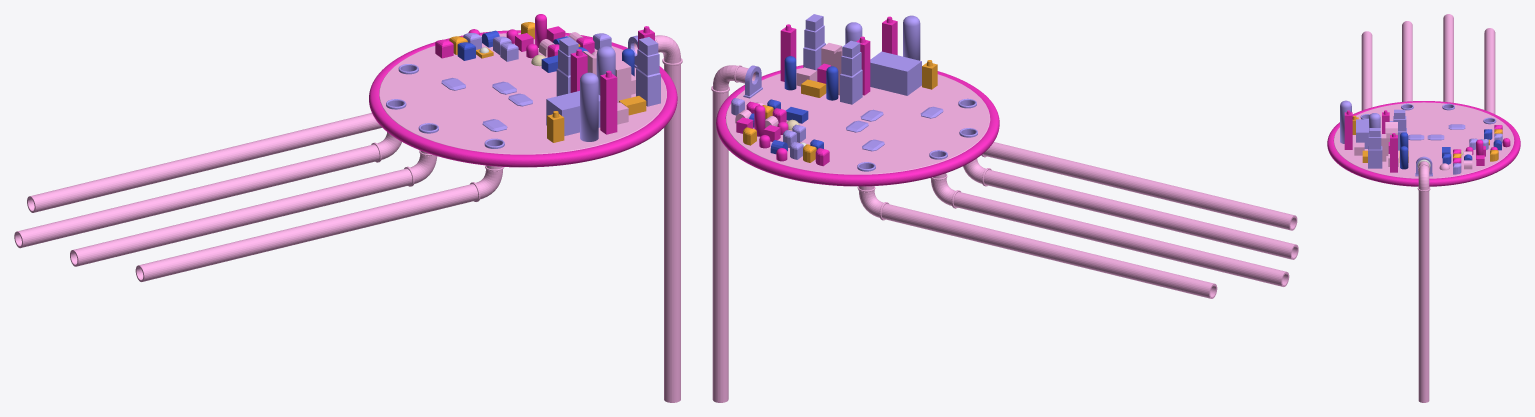
Rendered from platform_level2_a01.glb.
3 views of the same model, side by side, from view 1: azimuth 30°, elevation 25°; view 2: azimuth 150°, elevation 25°; view 3: azimuth 270°, elevation 25° (orthographic). The views are drawn at different scales.
Visible parts, largest first — view 1: Cylinder.061, Cube.270, Cube.271, Cube.213, Cube.212, Cube.210, Cylinder.062, Cube.257, Cylinder.077, Cube.222, Cube.254, Cube.215 (+3 smaller); view 2: Cylinder.061, Cube.212, Cube.270, Cube.213, Cube.210, Cube.271, Cylinder.062, Cube.222, Cube.215, Cube.257, Cylinder.077, Cube.255 (+2 smaller); view 3: Cylinder.061, Cube.210, Cylinder.062, Cube.212, Cube.270, Cube.271, Cube.213, Cube.257, Cube.254, Cube.222, Cube.255, Cube.215 (+3 smaller).
Part boxes in pixels (x1,y1,x2,y2): Cylinder.061: [379, 33, 666, 154]; Cube.270: [14, 132, 401, 248]; Cube.271: [135, 165, 504, 281]; Cube.213: [70, 150, 437, 266]; Cube.212: [27, 113, 382, 212]; Cube.210: [634, 35, 682, 402]; Cylinder.062: [369, 30, 677, 167]; Cube.257: [636, 37, 660, 106]; Cylinder.077: [580, 72, 598, 141]; Cube.222: [546, 91, 600, 135]; Cube.254: [600, 70, 617, 134]; Cube.215: [556, 37, 578, 96]; Cylinder.061: [725, 68, 990, 174]; Cube.212: [857, 186, 1217, 298]; Cube.270: [930, 173, 1289, 286]; Cube.213: [963, 158, 1298, 259]; Cube.210: [711, 65, 755, 402]; Cube.271: [981, 142, 1297, 230]; Cylinder.062: [716, 65, 999, 186]; Cube.222: [870, 51, 921, 95]; Cube.215: [840, 40, 862, 104]; Cube.257: [803, 14, 825, 70]; Cylinder.077: [903, 15, 920, 60]; Cube.255: [780, 24, 796, 81]; Cylinder.061: [1333, 102, 1514, 178]; Cube.210: [1417, 161, 1430, 402]; Cylinder.062: [1327, 101, 1520, 186]; Cube.212: [1484, 28, 1495, 113]; Cube.270: [1443, 14, 1453, 102]; Cube.271: [1361, 31, 1372, 110]; Cube.213: [1402, 21, 1412, 101]; Cube.257: [1368, 128, 1382, 168]; Cube.254: [1344, 110, 1352, 149]; Cube.222: [1356, 119, 1368, 148]; Cube.255: [1390, 133, 1397, 172]; Cube.215: [1393, 109, 1406, 150].
Size of the model in its own units: 113 by 68.2 by 46.96.
